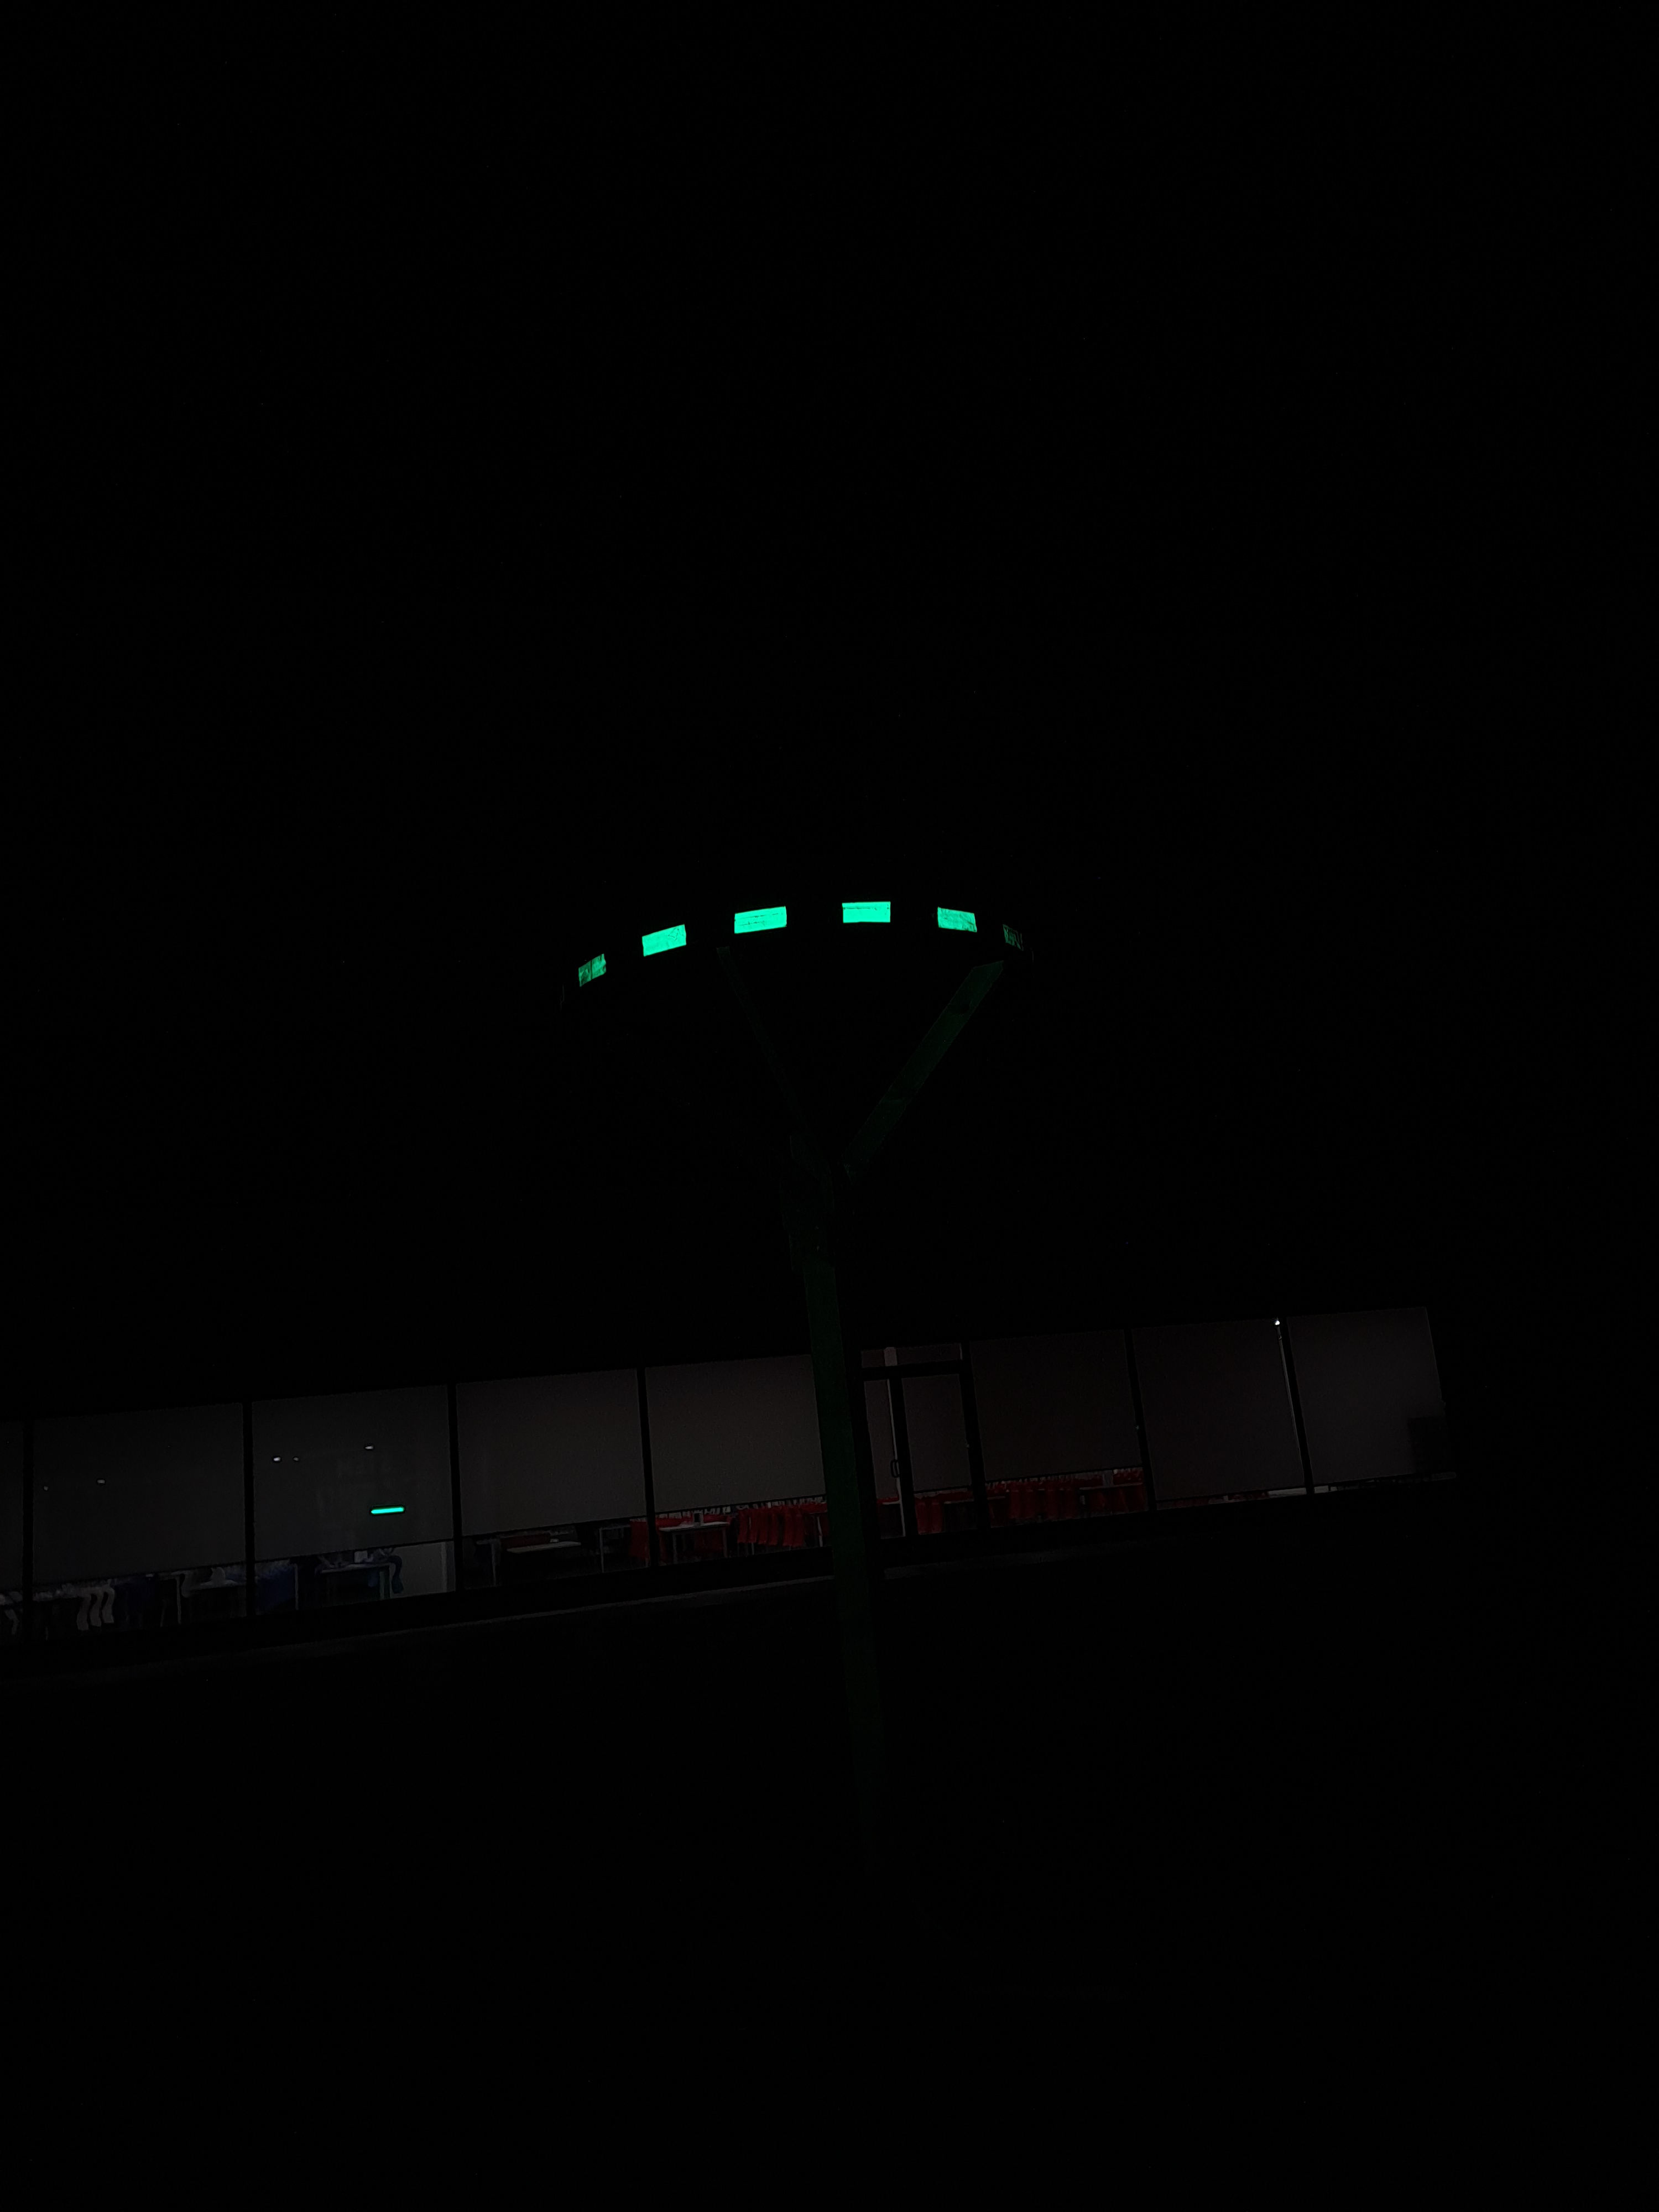hoop: (556, 904, 1035, 988)
